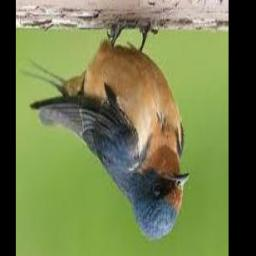Swallow: (22, 26, 190, 241)
